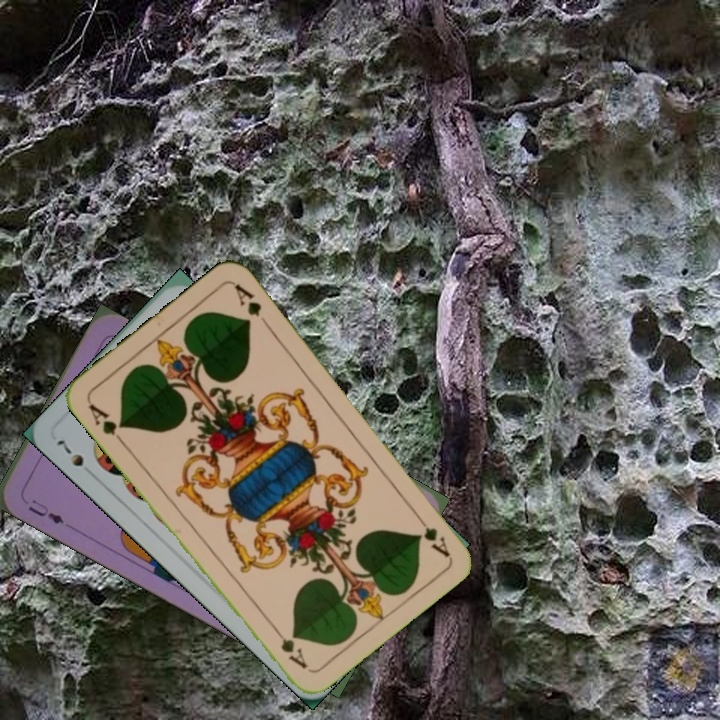EU: (24, 495, 67, 527)
GA: (411, 508, 453, 560), (84, 400, 128, 448)
S7: (52, 436, 98, 480)
